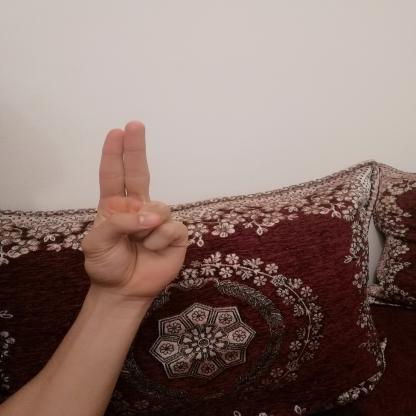TA: (61, 111, 202, 308)
